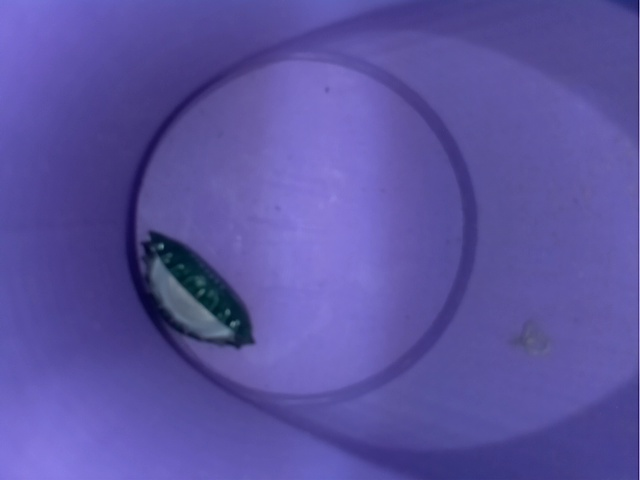capsule: (119, 218, 281, 356)
